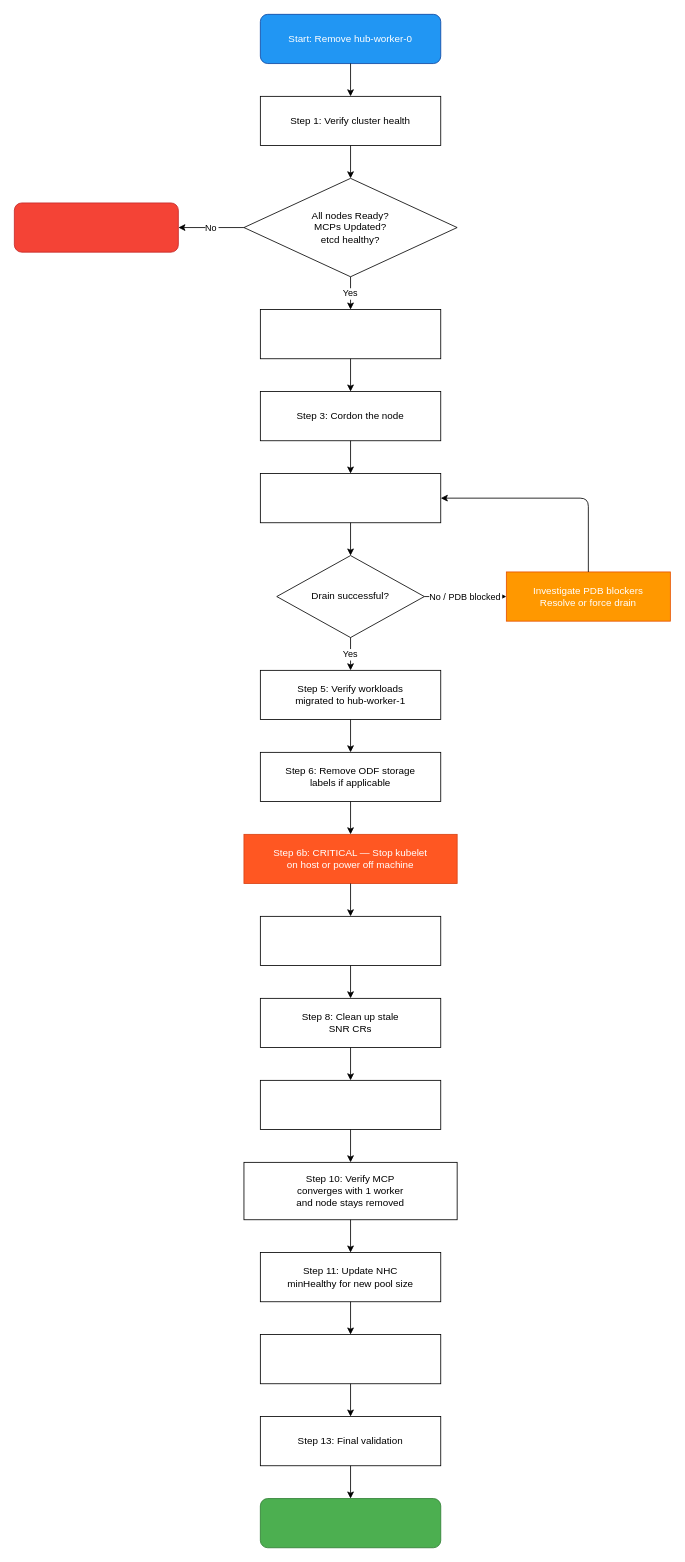
Image size: 685x1562. Some labels were removed from this diagram. The shapes that lost their labels are listed below. From the top down, each one's box as (x1, y1, x2, y2) in pixels, then its label:
(14, 202, 178, 252): STOP — Fix cluster first
(260, 309, 441, 359): Step 2: Pause NHC for workers
(260, 473, 441, 523): Step 4: Drain the node
(260, 916, 441, 966): Step 7: Delete the node object
(260, 1080, 441, 1130): Step 9: Clean up BMH if applicable
(260, 1334, 441, 1384): Step 12: Unpause NHC
(260, 1498, 441, 1548): Done: hub-worker-0 permanently removed
